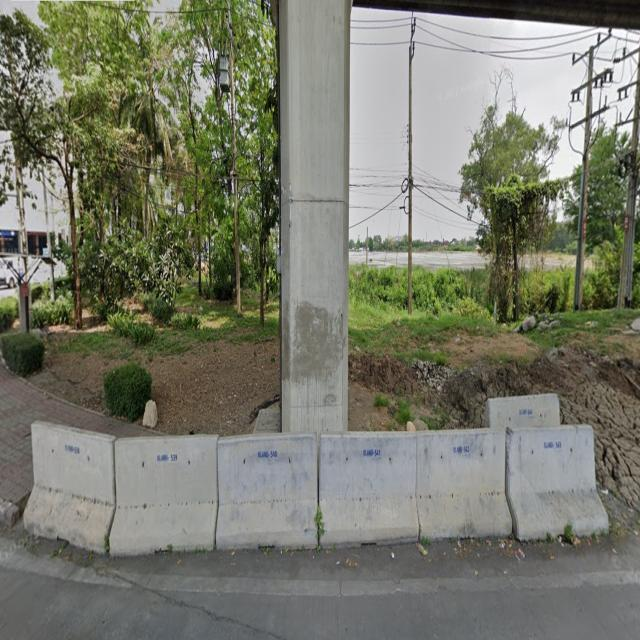fallen_object: (22, 403, 123, 586), (86, 426, 225, 556), (477, 423, 619, 544), (197, 427, 321, 553), (312, 419, 424, 552), (415, 415, 517, 548), (483, 363, 617, 445)
